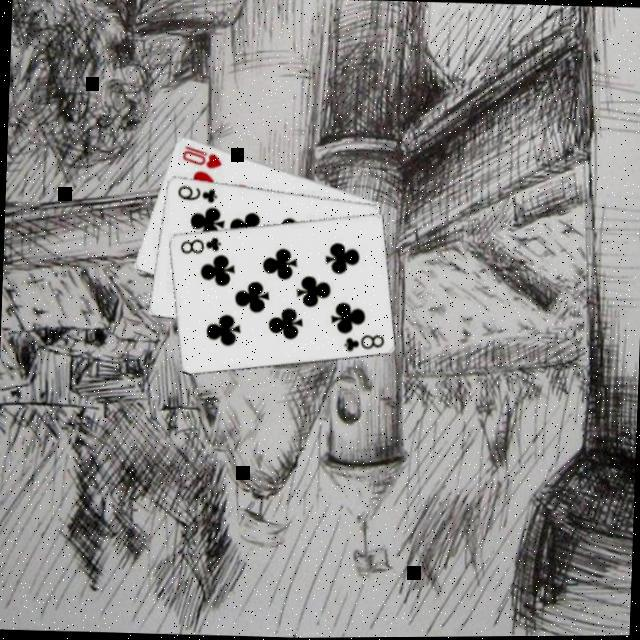10H: (176, 142, 223, 172)
8C: (337, 330, 386, 356), (174, 232, 221, 258)
9C: (171, 181, 218, 207)
